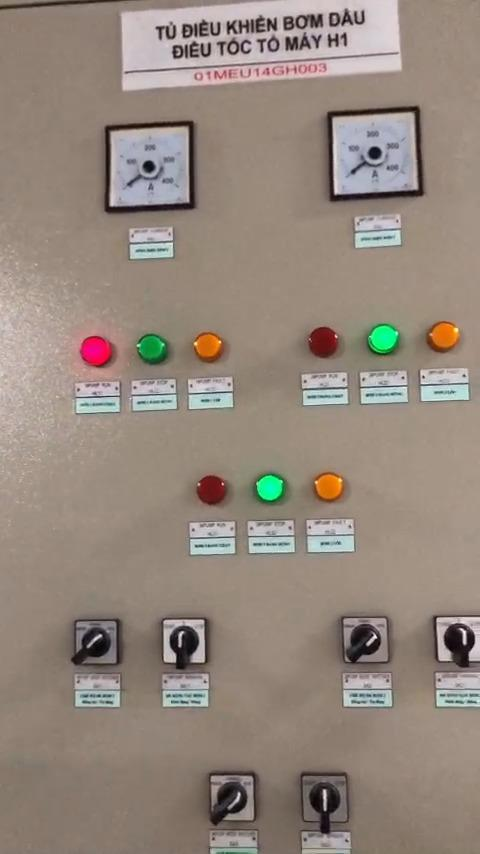led: (367, 322, 403, 358), (135, 334, 172, 369), (307, 325, 343, 360), (79, 336, 117, 369), (196, 475, 231, 510), (253, 471, 286, 508), (316, 470, 350, 505), (194, 330, 225, 364), (429, 322, 459, 355)
twist: (163, 616, 213, 668), (340, 614, 389, 666), (300, 771, 346, 826), (75, 618, 123, 669), (434, 614, 480, 665), (210, 772, 256, 822)
